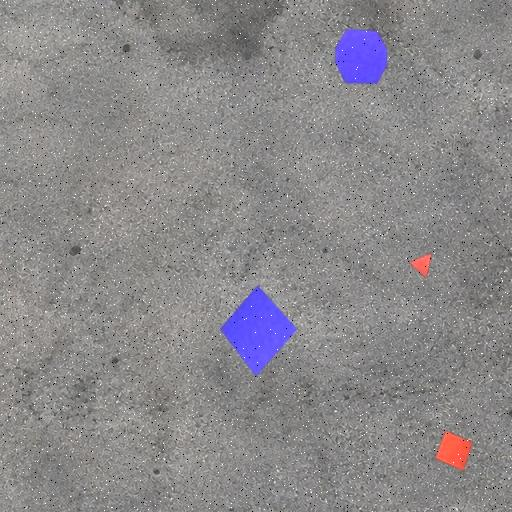BLUE_SQUARE: (220, 285, 298, 377)
RED_SQUARE: (434, 430, 474, 472)
